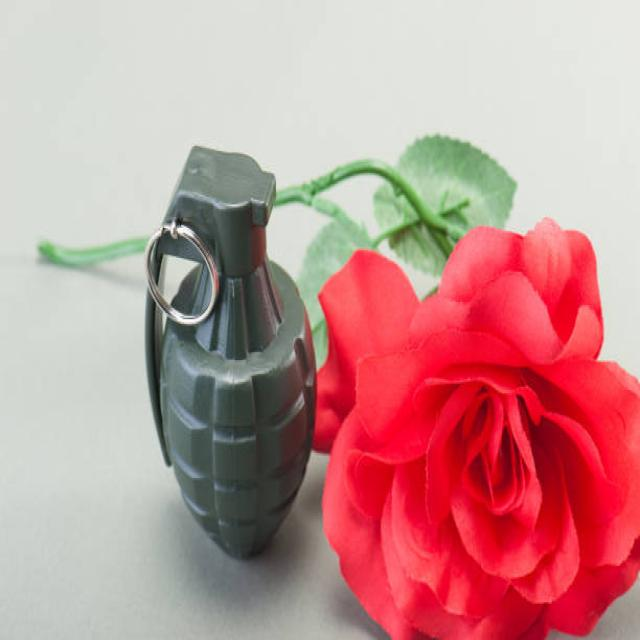grenade: (146, 143, 322, 563)
